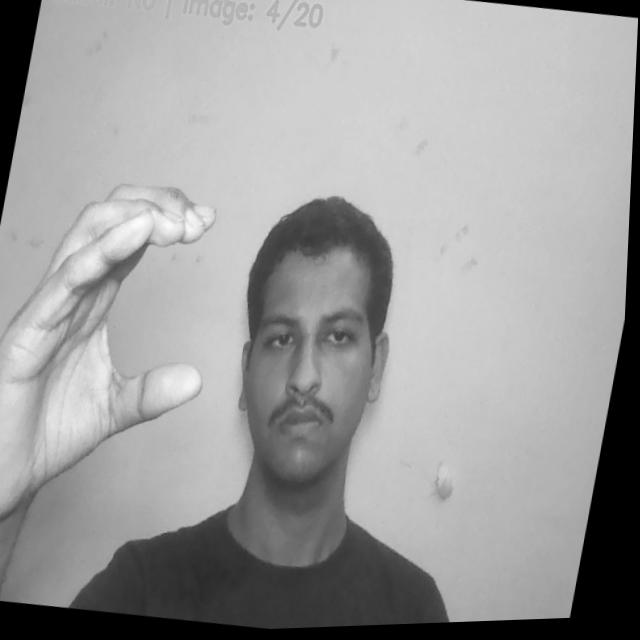No: (0, 165, 239, 537)
